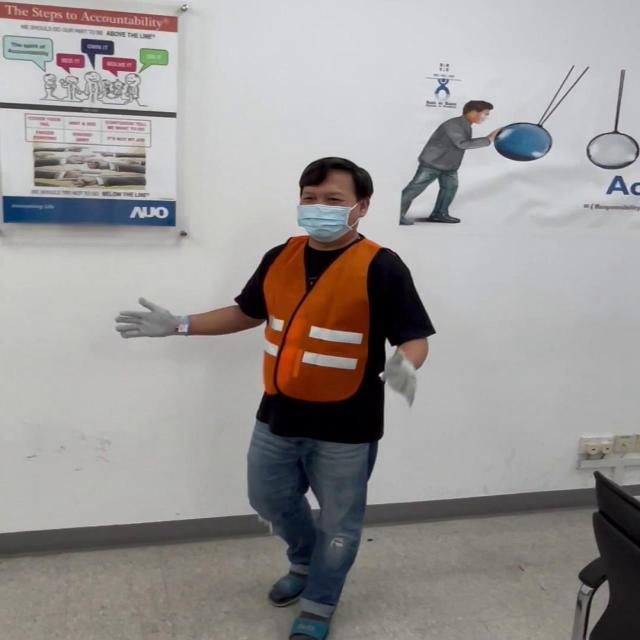gloved_hand: (116, 290, 194, 348), (377, 346, 424, 406)
